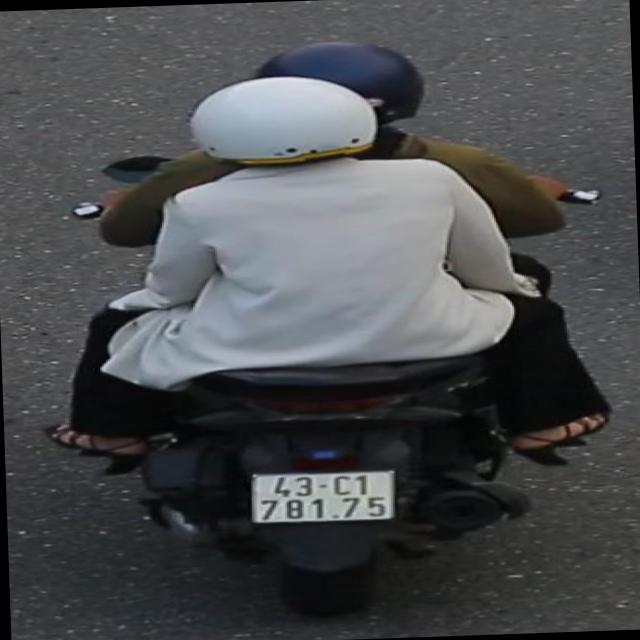LP: (245, 462, 407, 530)
helmet: (179, 72, 385, 189), (254, 34, 431, 126)
